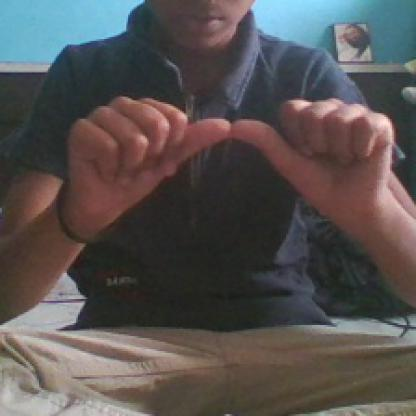A: (55, 89, 394, 216)
